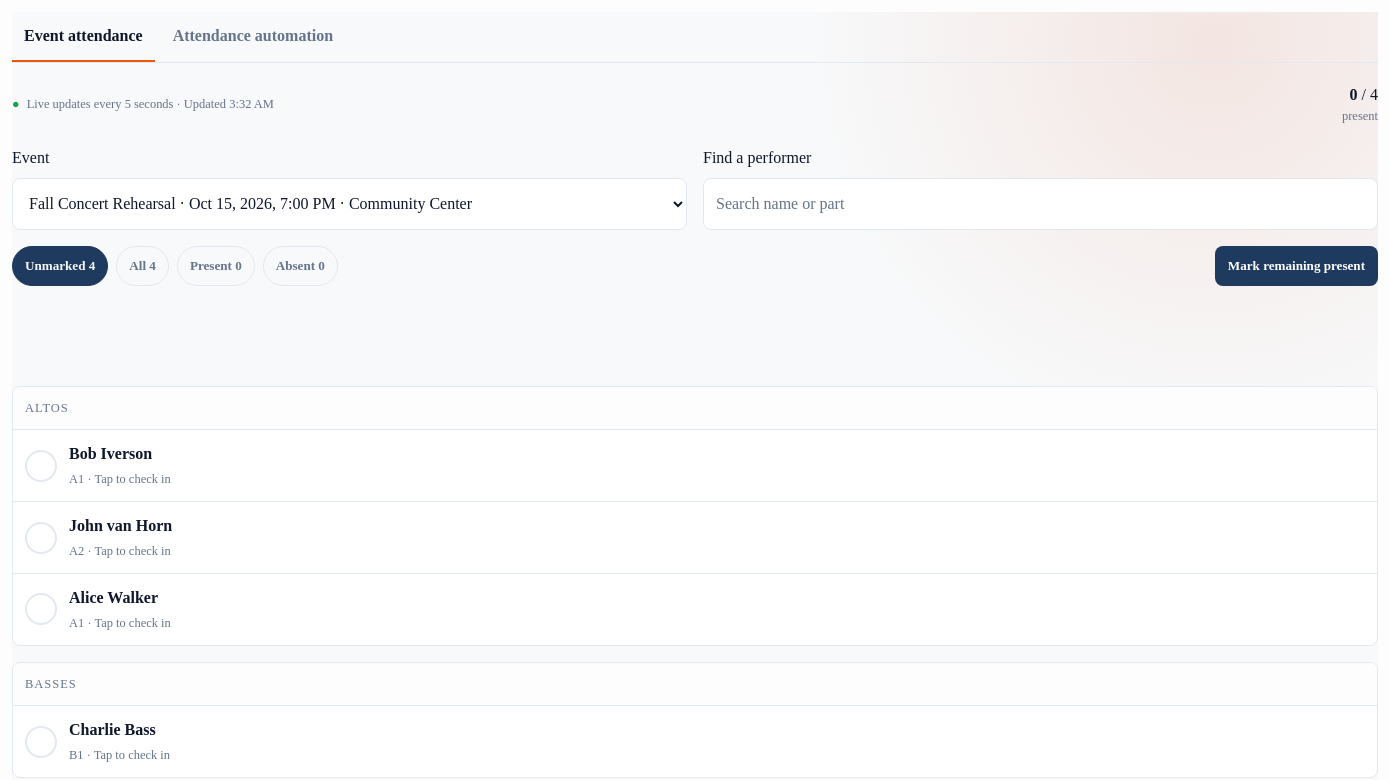
Scenario: AttendanceManager section grouping and sorting UI › AttendanceManager Undo bar › handles authoritative conflict (HTTP 409) during undo and reconciles view
The width and height of the screenshot is (1390, 780).
Expected: the heading "Altos" is shown, top-left (13, 387), bottom-right (1377, 430)
Click the button with aria-label "Alice Walker: Tap to check in. Tap to change." at [41, 609], box top-left (13, 574), bottom-right (1377, 645)
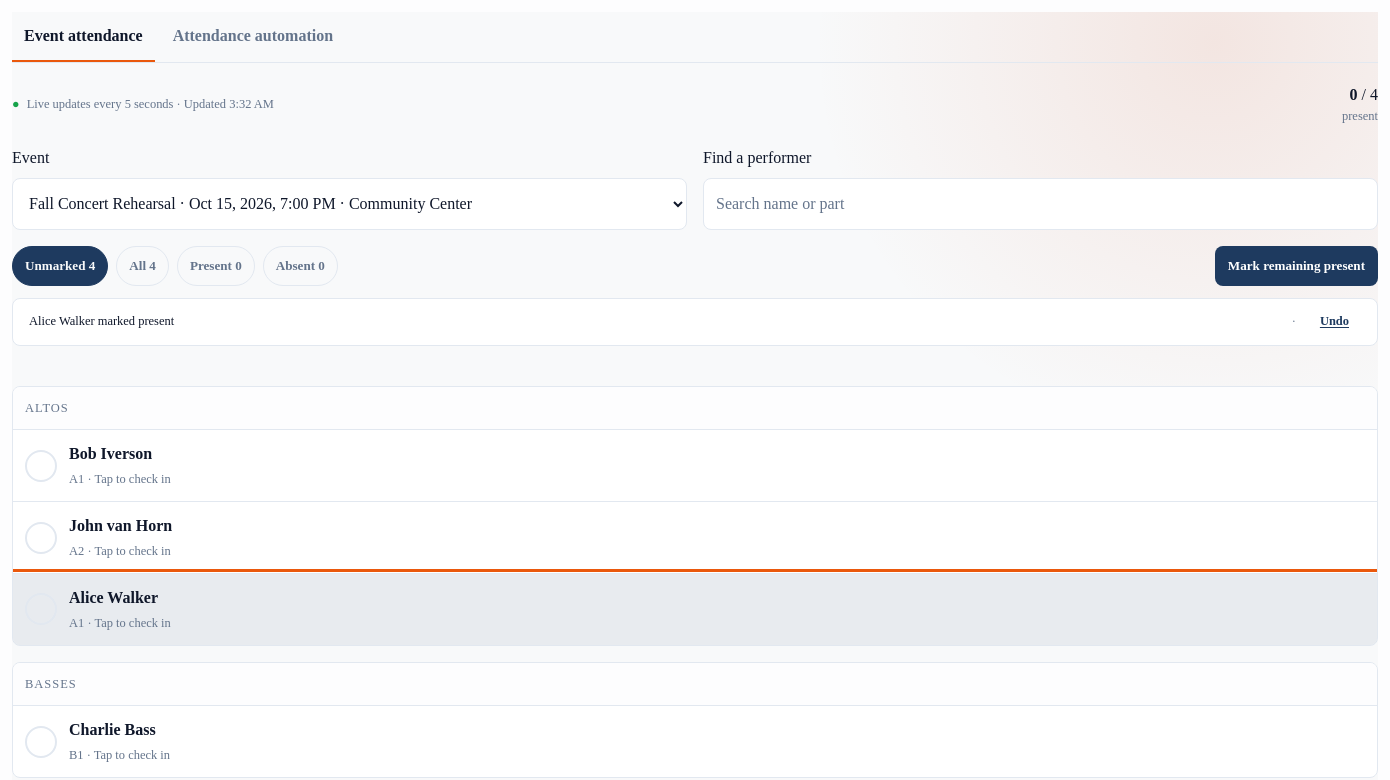
Expected: the text "Alice Walker marked present" is shown, top-left (29, 314), bottom-right (174, 328)
Click the button with aria-label "Undo: Alice Walker marked present" at [1334, 322], box top-left (1308, 300), bottom-right (1361, 344)
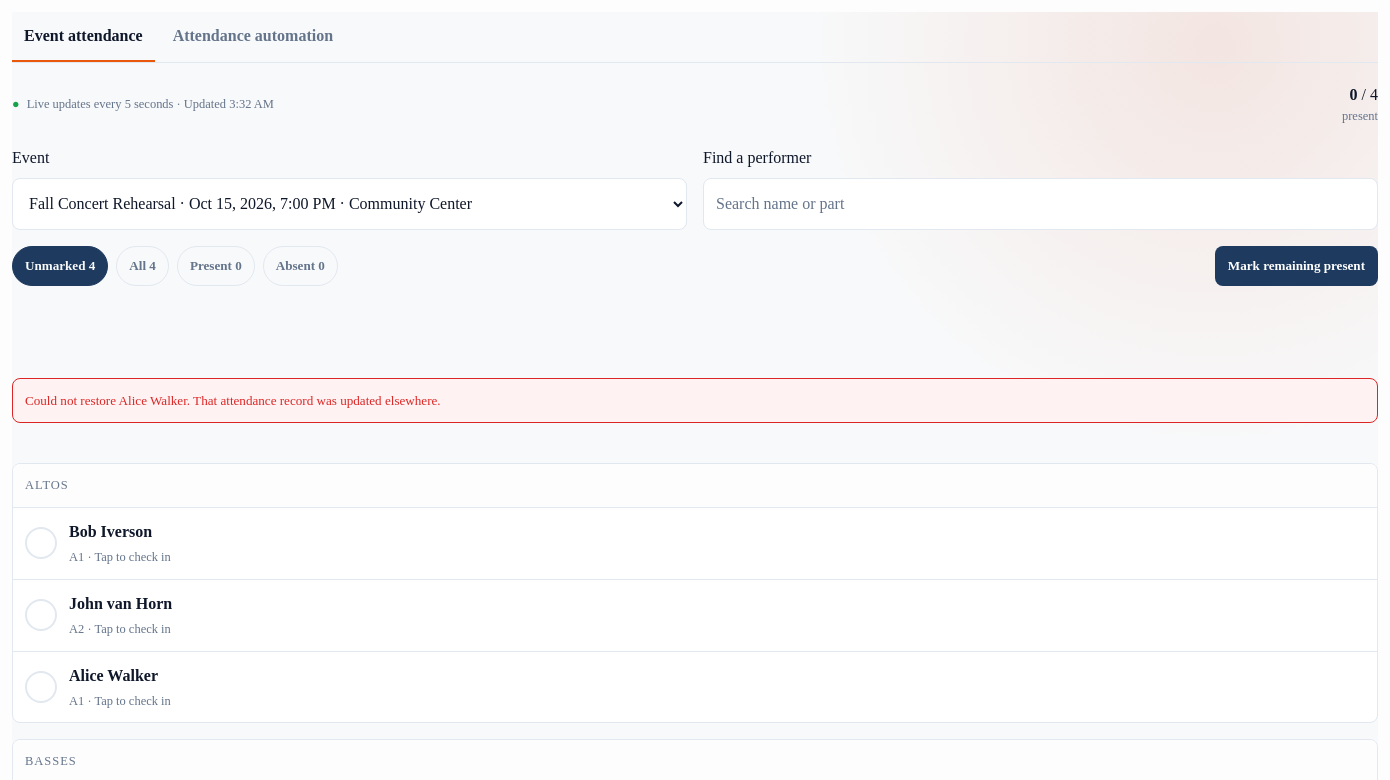
Expected: the text "Could not restore Alice Walker. That attendance record was updated elsewhere." is shown, top-left (12, 378), bottom-right (1378, 423)
Expected: the button "Undo" is gone
